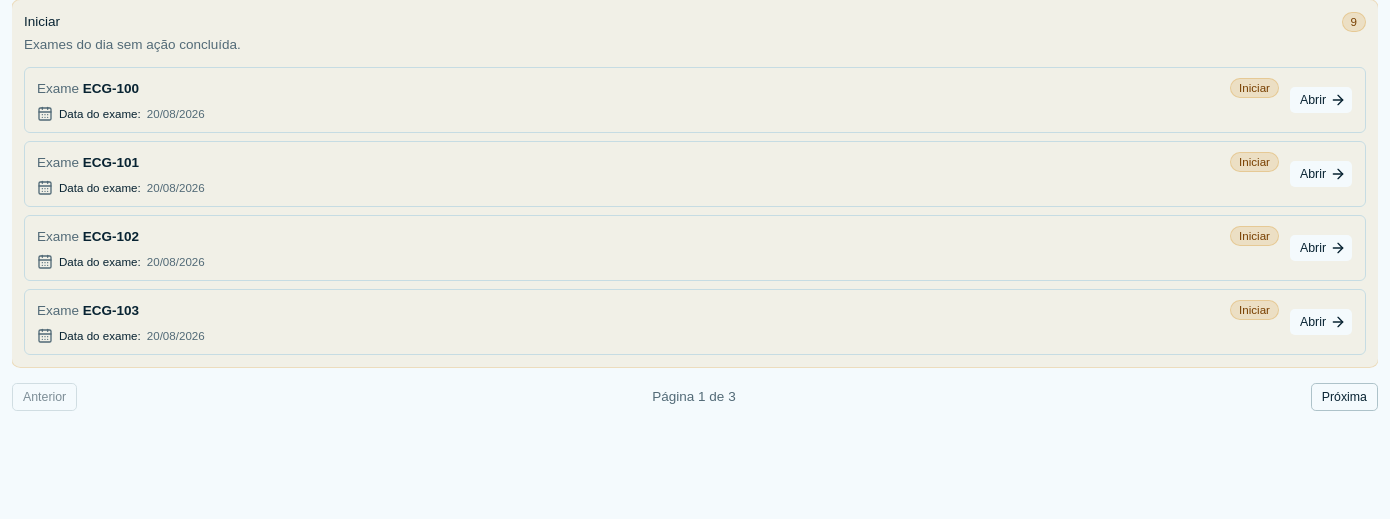
Test: DashboardPage › mantém uma página efetiva válida quando a lista diminui
What coordinates should you click on to do the following:
click the button with aria-label "próxima página"
I would click on:
 (1344, 397)
Its box is [1311,383,1378,411].
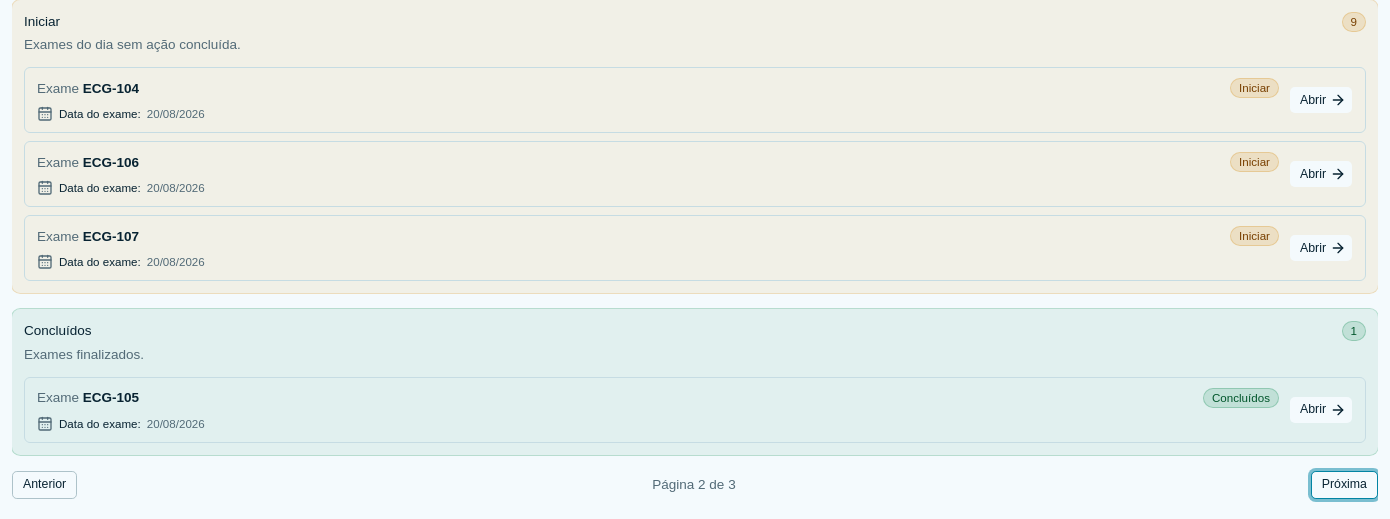
What coordinates should you click on to do the following:
click the button with aria-label "próxima página"
I would click on:
 (1344, 484)
Its box is [1311,470,1378,498].
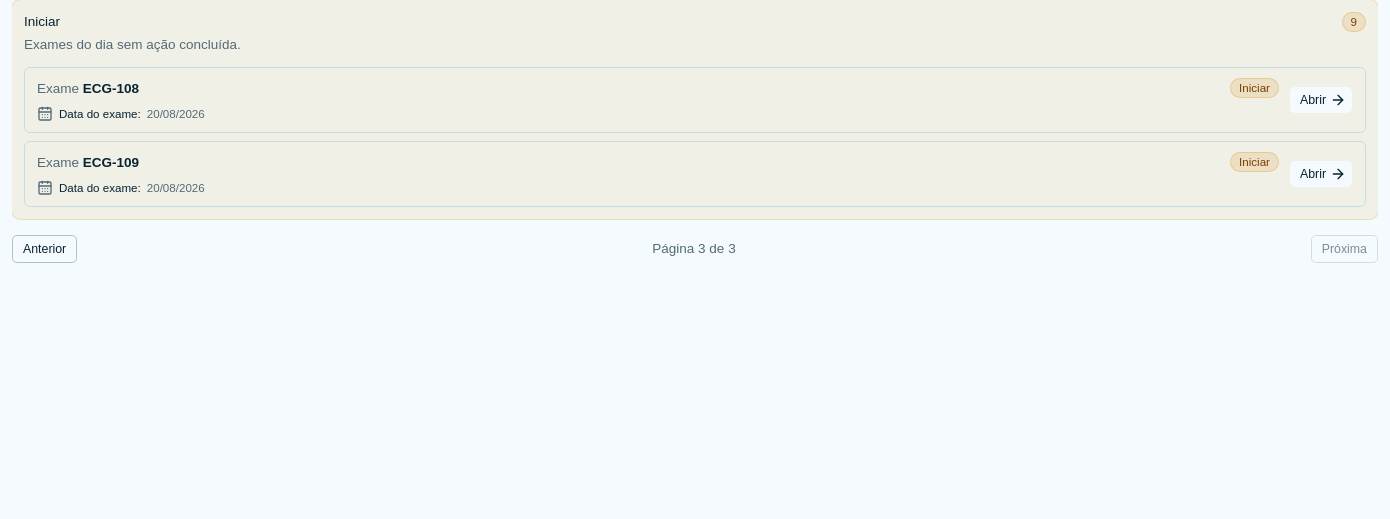
Now the text "Página 3 de 3" is shown, box [652,239,736,259]
